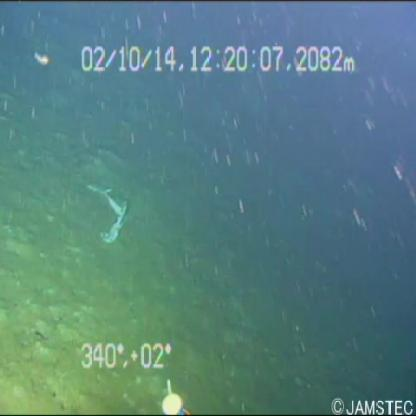Rov: (154, 371, 194, 416)
Rác: (80, 177, 138, 266)
